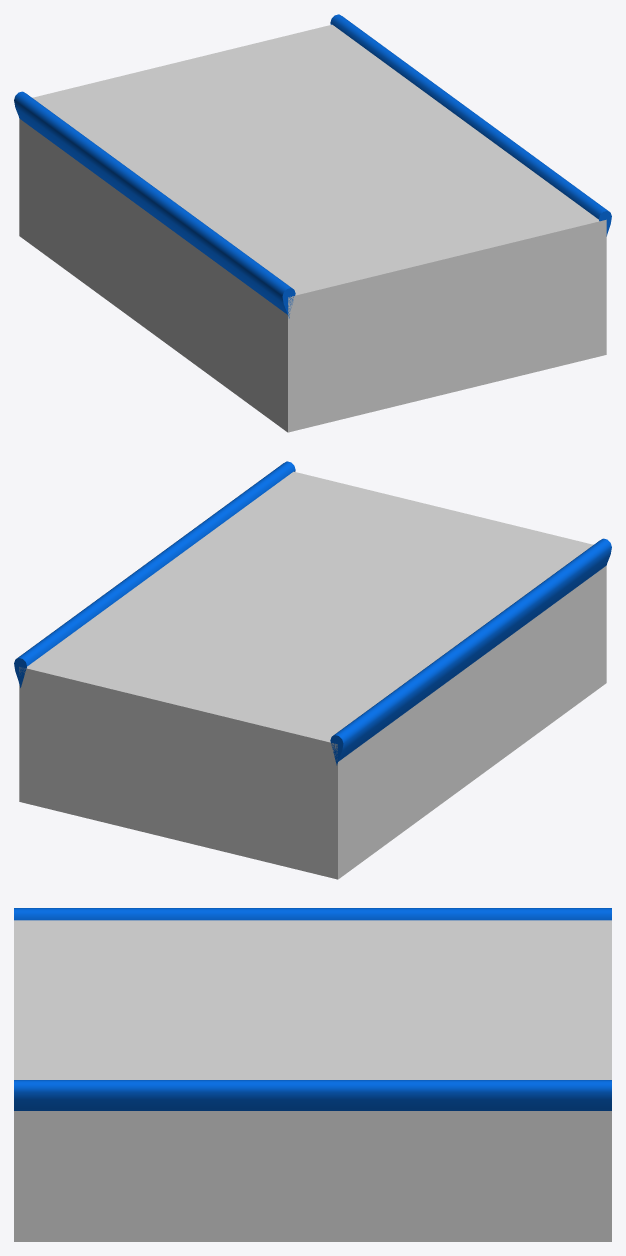
Rendered from Road.fbx.
3 renders of one model, top to bottom at view 1: azimuth 30°, elevation 25°; view 2: azimuth 150°, elevation 25°; view 3: azimuth 270°, elevation 25°, orthographic. The views are drawn at different scales.
Visible parts, largest first — view 1: Road; view 2: Road; view 3: Road.
Part boxes in pixels (box(x1,y1,x2,y2)): Road: box(14, 14, 611, 432); Road: box(14, 461, 611, 879); Road: box(14, 908, 611, 1241).
Size of the model in its own units: 255 by 106 by 360.
